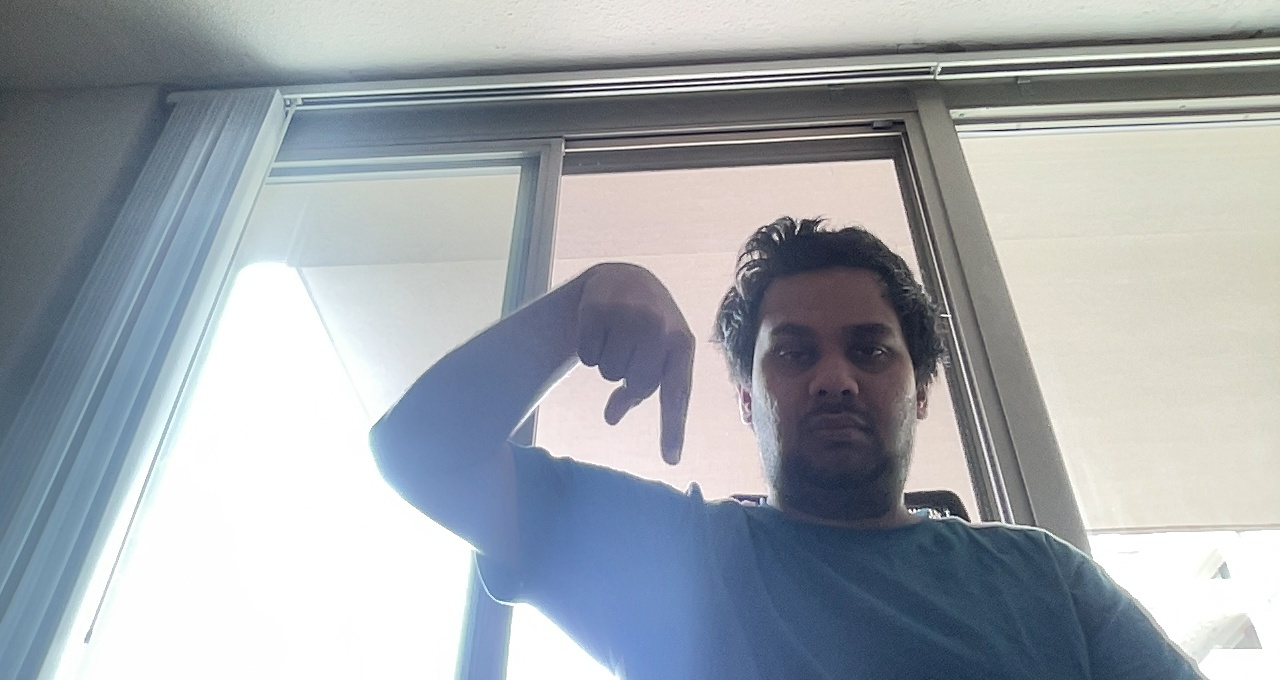fingerdown: (581, 254, 701, 471)
